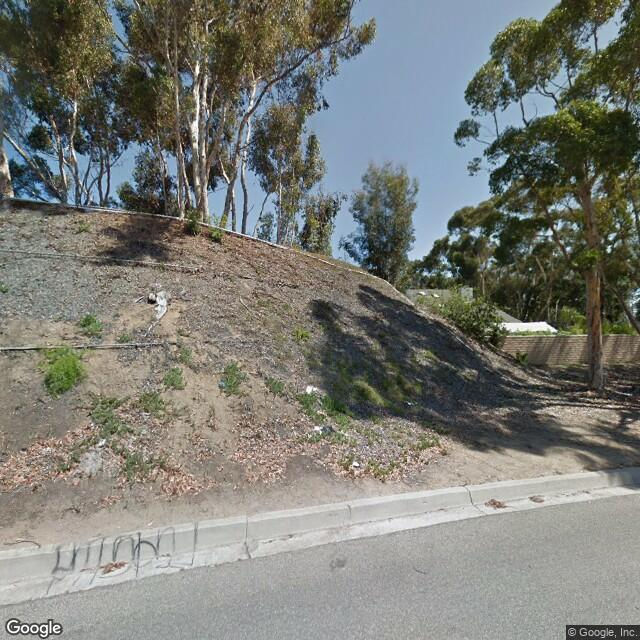litter: (304, 383, 320, 395), (311, 424, 324, 433), (351, 459, 360, 467)
